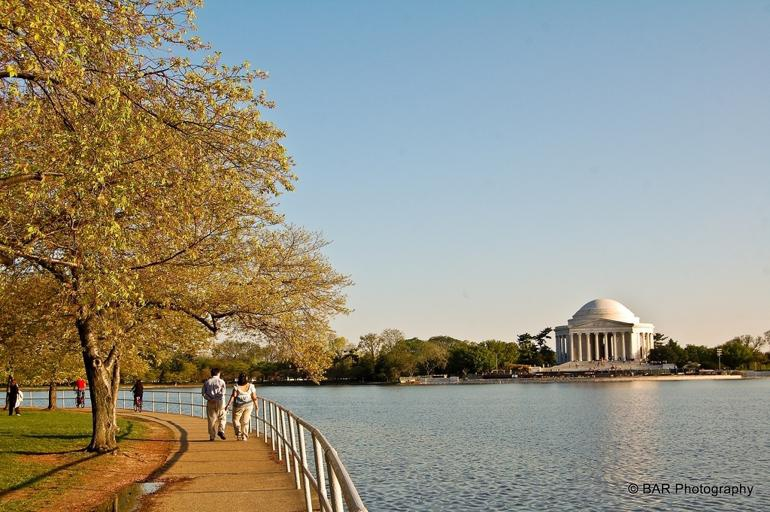non-vehicle: (129, 388, 144, 412), (71, 386, 85, 409)
